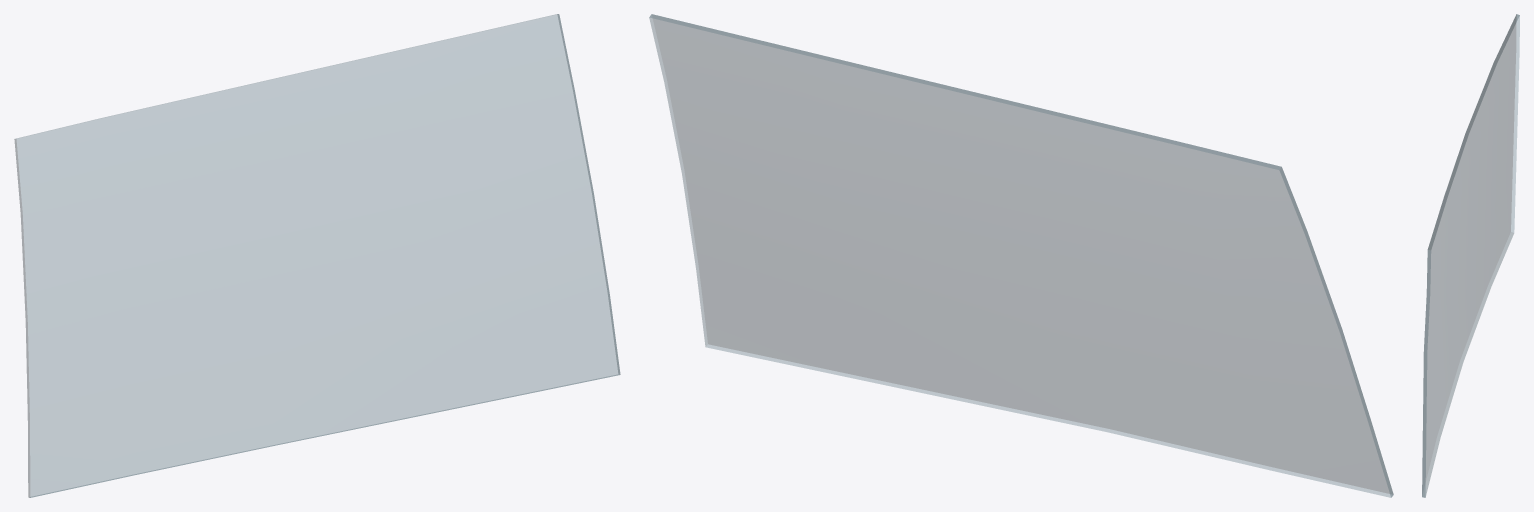
3 views of the same model, side by side, from view 1: azimuth 30°, elevation 25°; view 2: azimuth 150°, elevation 25°; view 3: azimuth 270°, elevation 25° (orthographic). The views are drawn at different scales.
Parts seen in each view (by area): view 1: SM_NissanPatrol_Door_RR_Glass_Ext1; view 2: SM_NissanPatrol_Door_RR_Glass_Ext1; view 3: SM_NissanPatrol_Door_RR_Glass_Ext1.
Part boxes in pixels (left/top/right/bottom): SM_NissanPatrol_Door_RR_Glass_Ext1: left=14, top=14, right=620, bottom=497; SM_NissanPatrol_Door_RR_Glass_Ext1: left=649, top=14, right=1393, bottom=497; SM_NissanPatrol_Door_RR_Glass_Ext1: left=1422, top=14, right=1519, bottom=497.
Bounding box in the file's own units: 0.9407 × 0.502 × 0.167.
